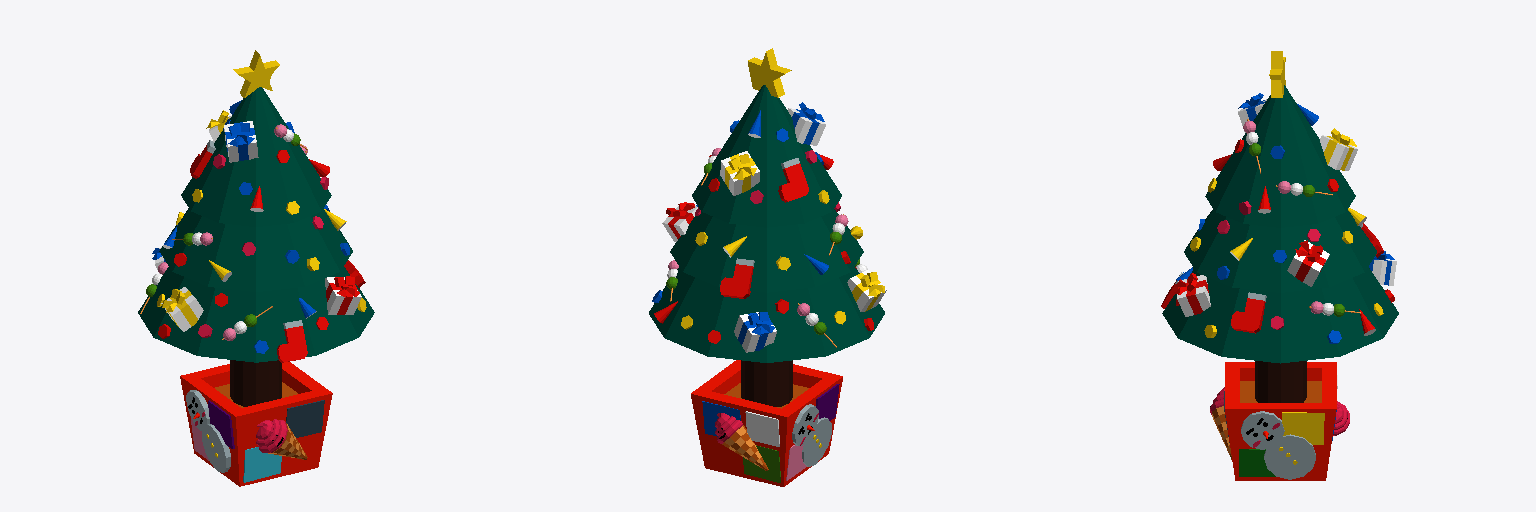
The picture shows the model from 3 angles: view 1: azimuth 30°, elevation 25°; view 2: azimuth 150°, elevation 25°; view 3: azimuth 270°, elevation 25°; orthographic projection.
Parts seen in each view (by area): view 1: group[number redacted], group[number redacted], group[number redacted], group[number redacted], group[number redacted], group[number redacted], group[number redacted], group[number redacted], group[number redacted], group[number redacted], group[number redacted], group[number redacted] (+4 smaller); view 2: group[number redacted], group[number redacted], group[number redacted], group[number redacted], group[number redacted], group[number redacted], group[number redacted], group[number redacted], group[number redacted], group[number redacted], group[number redacted], group[number redacted] (+8 smaller); view 3: group[number redacted], group[number redacted], group[number redacted], group[number redacted], group[number redacted], group[number redacted], group37787, group[number redacted], group[number redacted], group[number redacted], group[number redacted], group[number redacted] (+4 smaller).
Part boxes in pixels (left/top/right/bottom): group[number redacted]: left=138, top=267, right=374, bottom=362; group[number redacted]: left=181, top=87, right=331, bottom=226; group[number redacted]: left=159, top=208, right=352, bottom=291; group[number redacted]: left=180, top=362, right=332, bottom=486; group[number redacted]: left=230, top=360, right=281, bottom=406; group[number redacted]: left=256, top=419, right=307, bottom=459; group[number redacted]: left=286, top=400, right=324, bottom=437; group[number redacted]: left=233, top=50, right=279, bottom=97; group[number redacted]: left=243, top=447, right=281, bottom=482; group[number redacted]: left=277, top=320, right=307, bottom=362; group[number redacted]: left=202, top=424, right=230, bottom=472; group[number redacted]: left=325, top=277, right=361, bottom=314; group[number redacted]: left=649, top=267, right=884, bottom=362; group[number redacted]: left=670, top=209, right=863, bottom=292; group[number redacted]: left=692, top=85, right=841, bottom=227; group[number redacted]: left=691, top=360, right=842, bottom=486; group[number redacted]: left=741, top=360, right=792, bottom=406; group[number redacted]: left=715, top=413, right=768, bottom=470; group[number redacted]: left=748, top=48, right=791, bottom=97; group[number redacted]: left=734, top=312, right=776, bottom=352; group[number redacted]: left=720, top=258, right=754, bottom=298; group[number redacted]: left=745, top=411, right=779, bottom=446; group[number redacted]: left=778, top=158, right=808, bottom=202; group[number redacted]: left=720, top=151, right=759, bottom=195; group[number redacted]: left=1162, top=267, right=1398, bottom=363; group[number redacted]: left=1205, top=85, right=1355, bottom=227; group[number redacted]: left=1184, top=209, right=1376, bottom=292; group[number redacted]: left=1225, top=362, right=1336, bottom=480; group[number redacted]: left=1255, top=361, right=1306, bottom=402; group[number redacted]: left=1264, top=434, right=1315, bottom=479; group37787: left=1282, top=412, right=1324, bottom=444; group[number redacted]: left=1241, top=411, right=1284, bottom=449; group[number redacted]: left=1231, top=292, right=1266, bottom=333; group[number redacted]: left=1177, top=275, right=1210, bottom=316; group[number redacted]: left=1320, top=135, right=1357, bottom=170; group[number redacted]: left=1287, top=240, right=1329, bottom=286.
Size of the model in its own units: 0.4904 by 0.9294 by 0.4899.